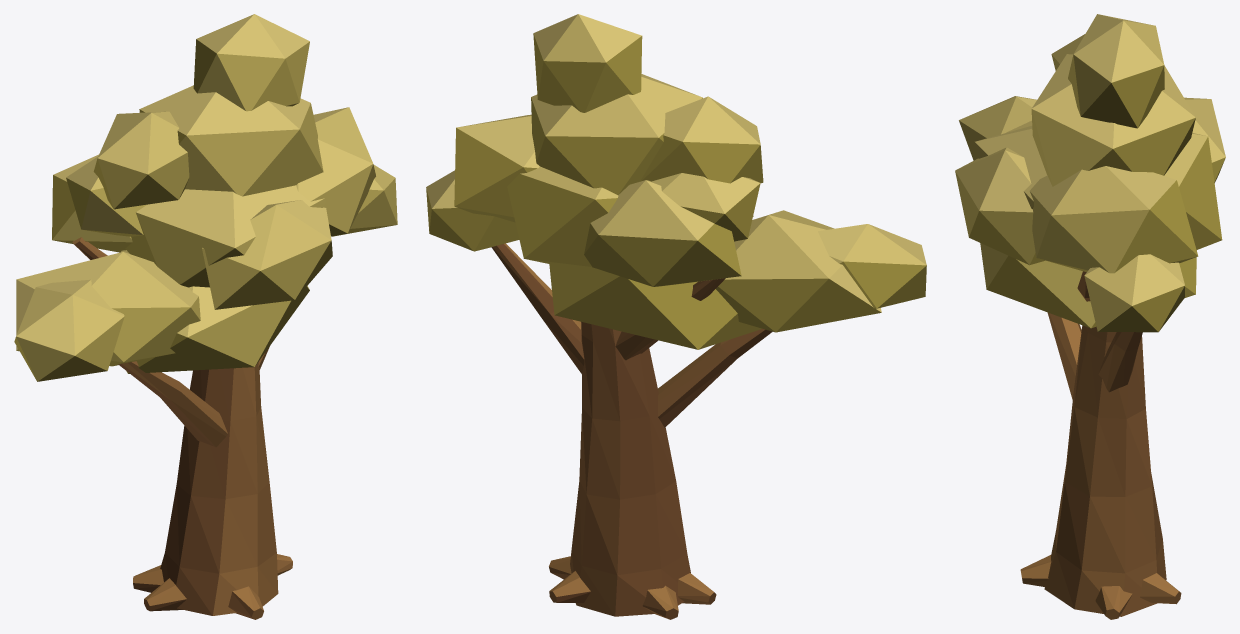
3 views of the same model, side by side, from view 1: azimuth 30°, elevation 25°; view 2: azimuth 150°, elevation 25°; view 3: azimuth 270°, elevation 25° (orthographic). The views are drawn at different scales.
Parts seen in each view (by area): view 1: WK_RegularTree_GoldenGrove_LOD0_High; view 2: WK_RegularTree_GoldenGrove_LOD0_High; view 3: WK_RegularTree_GoldenGrove_LOD0_High.
Part boxes in pixels (x1,y1,x2,y2): WK_RegularTree_GoldenGrove_LOD0_High: (14,14,397,619); WK_RegularTree_GoldenGrove_LOD0_High: (426,14,926,619); WK_RegularTree_GoldenGrove_LOD0_High: (955,14,1225,619).
Size of the model in its own units: 4.98 by 6.18 by 2.56.
